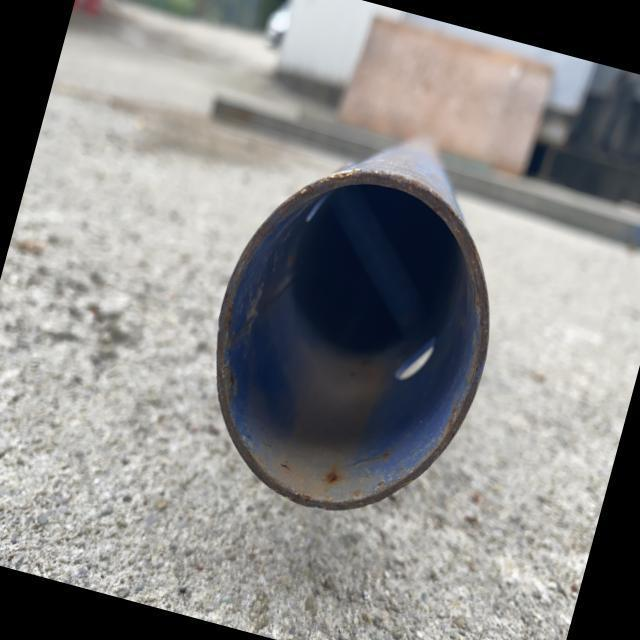pipe: (214, 172, 490, 514)
